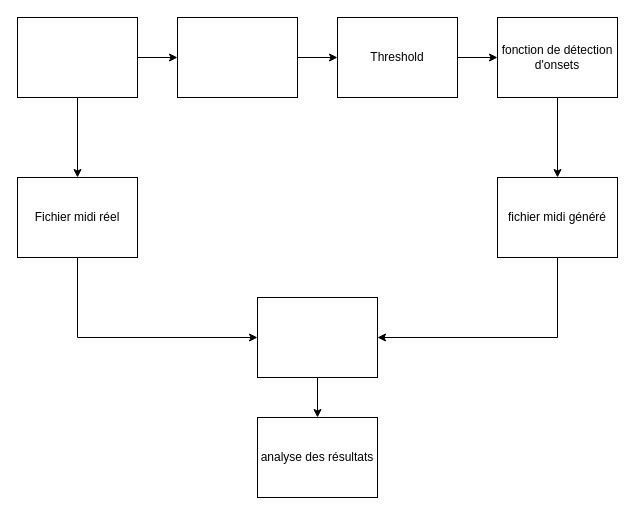
Image size: 635x515. Some labels were removed from this diagram. Each missing label, with the centre of its shape:
Analyse spectrale/temporelle: the point at 237,57
Comparaison: the point at 317,337
Fichier Audio: the point at 77,57
